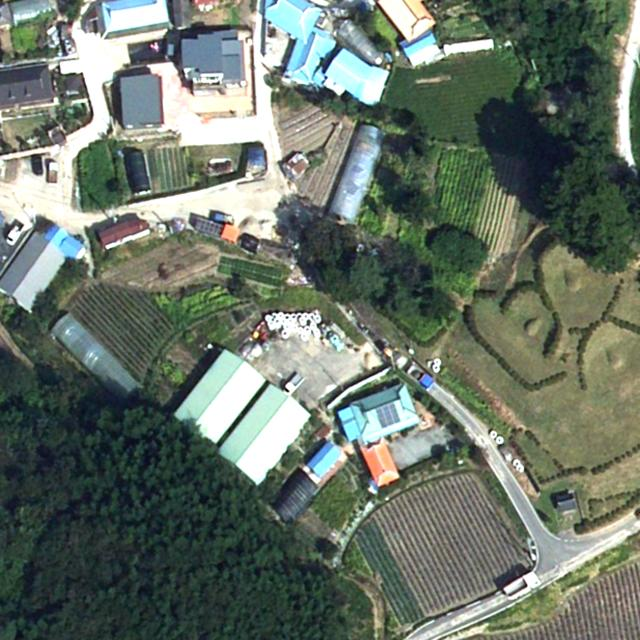solarpanel: (376, 403, 402, 429)
